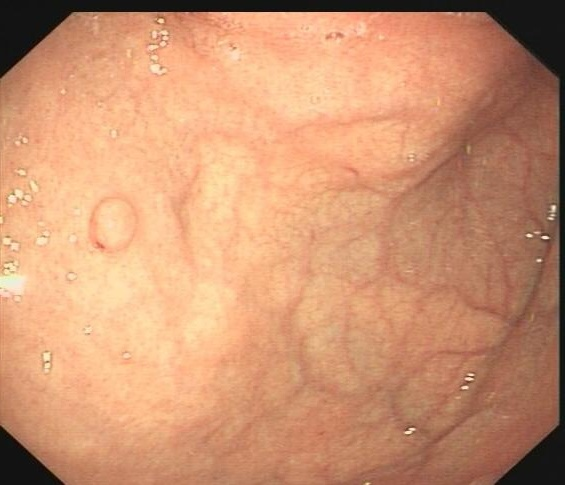Polyp: (89, 196, 141, 256)
